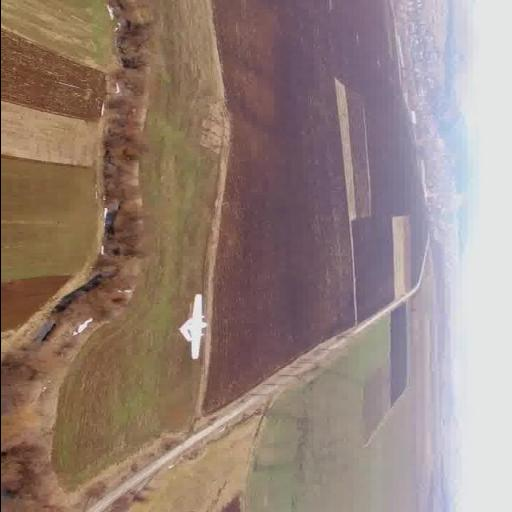uav: (174, 294, 210, 362)
